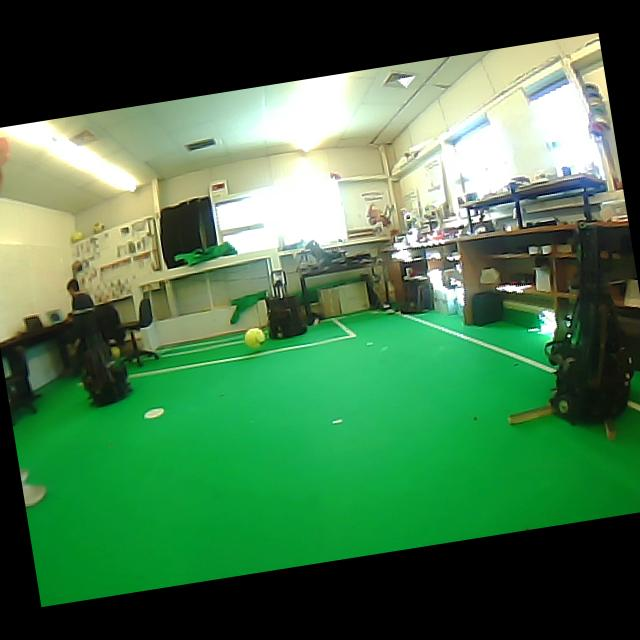ball: (244, 328, 265, 348), (71, 230, 85, 242), (93, 222, 105, 233), (111, 347, 120, 357)
robot: (547, 223, 632, 423), (83, 344, 132, 406), (266, 270, 306, 337)
